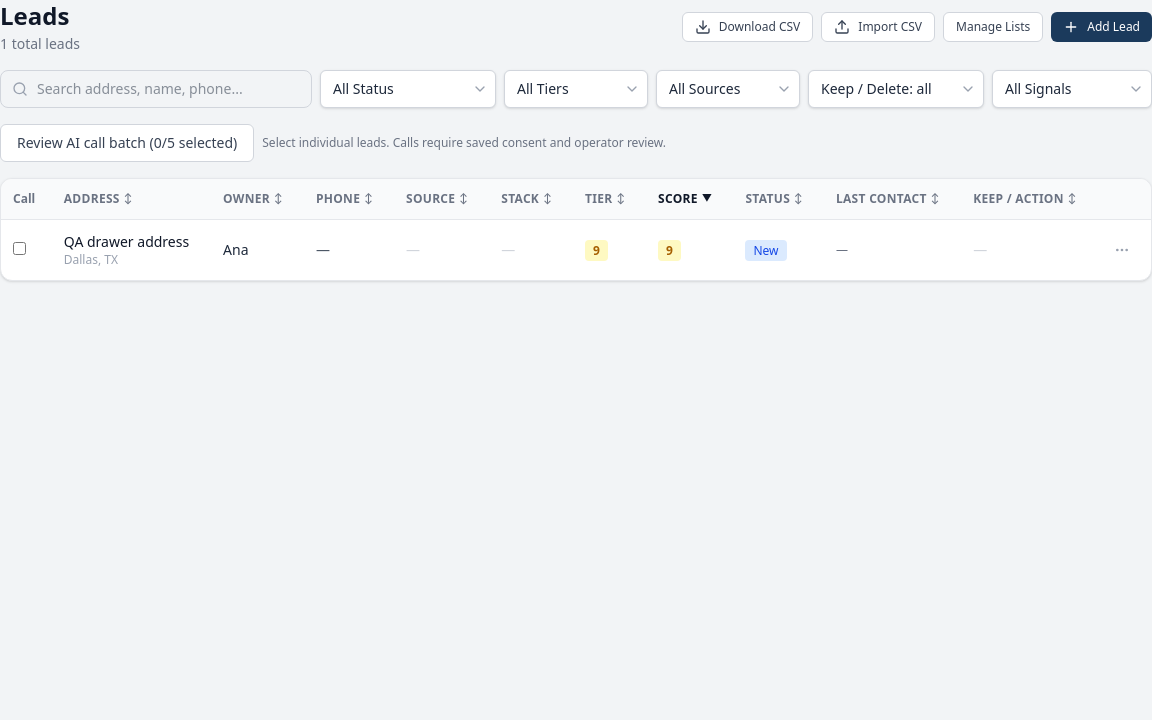
it: saves only changed editable fields and preserves concurrent automation updates
Click the text "QA drawer address".
click(126, 242)  # box [64, 232, 189, 252]
(page scrolled)
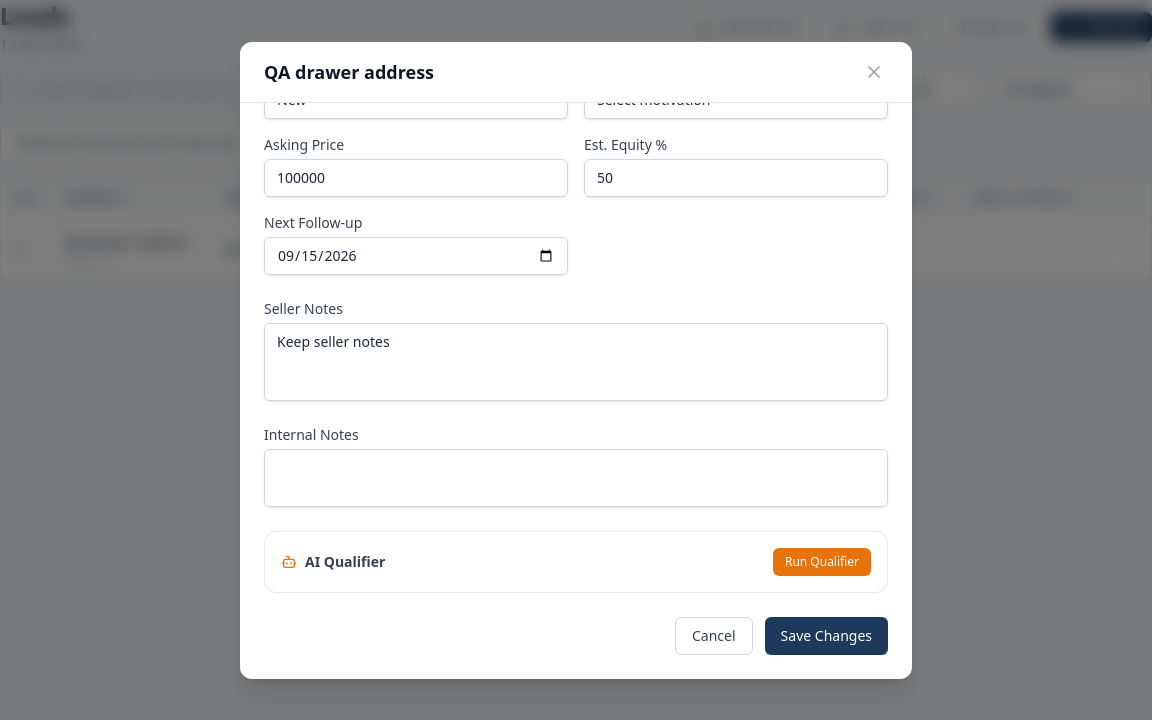
Type "QA edited note" into the text box labelled "Internal Notes".
click(576, 478); type("QA edited note")  # box [264, 448, 888, 506]
(page scrolled)
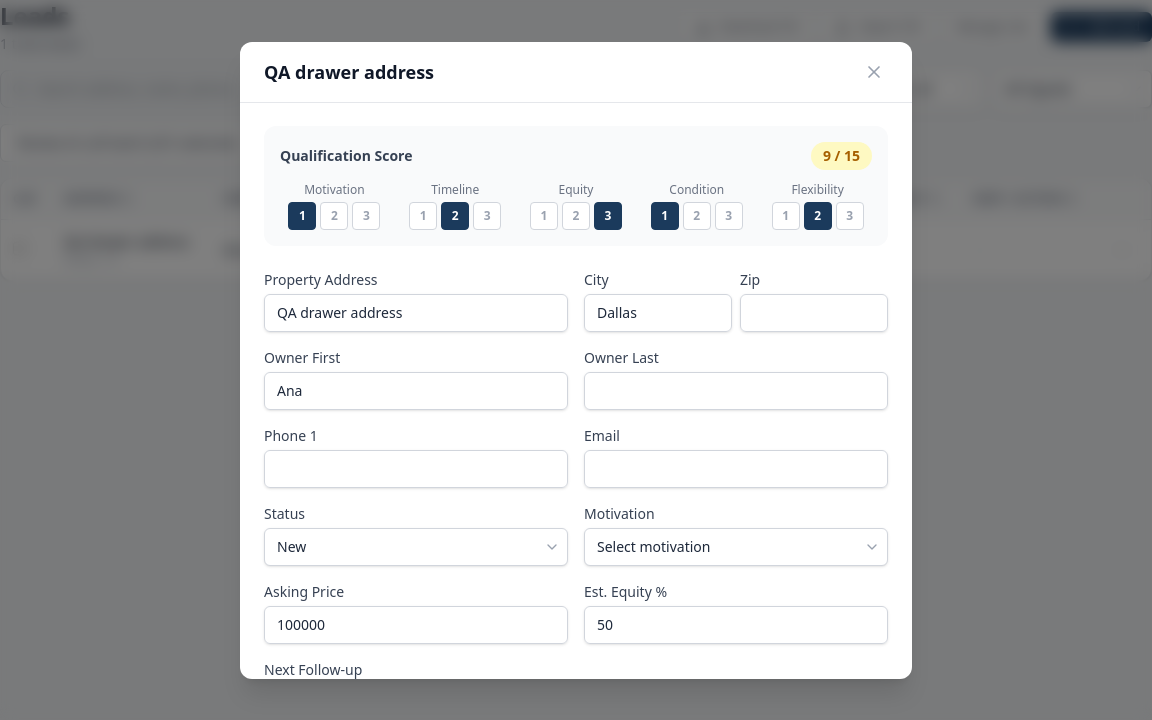
Replace the text in the field labelled "Owner First" with "Temporary change" at coordinates (416, 390), box [264, 372, 568, 410]
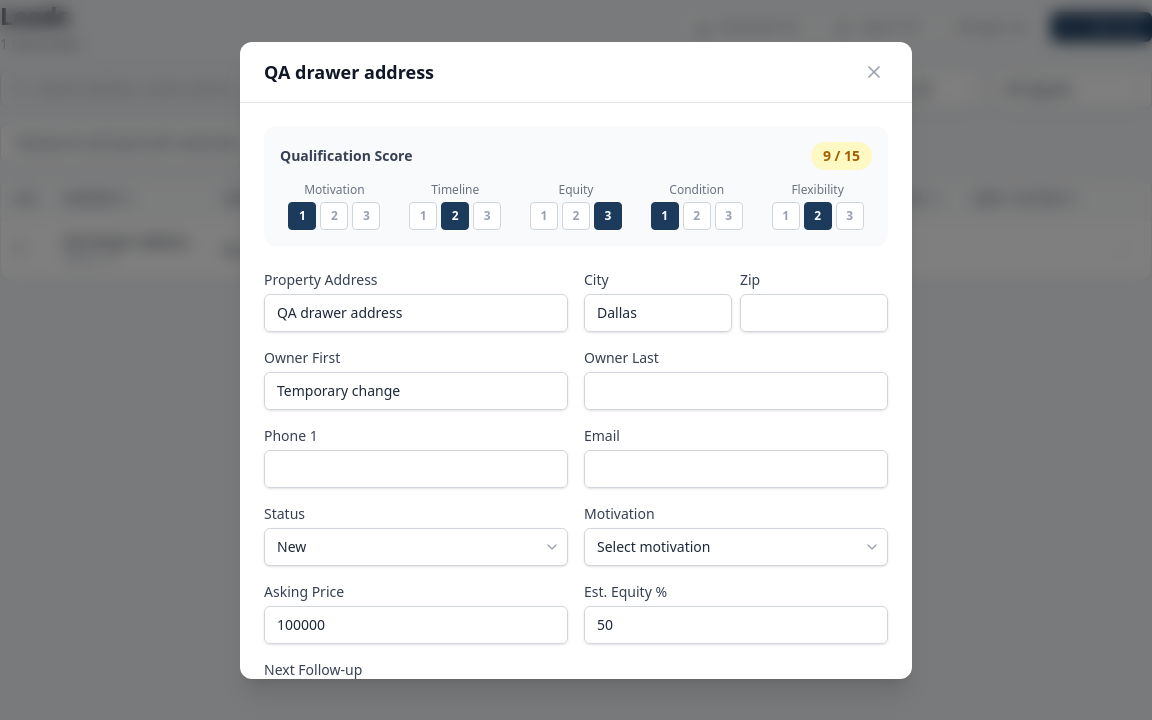
Replace the text in the field labelled "Owner First" with "Ana" at coordinates (416, 390), box [264, 372, 568, 410]
(page scrolled)
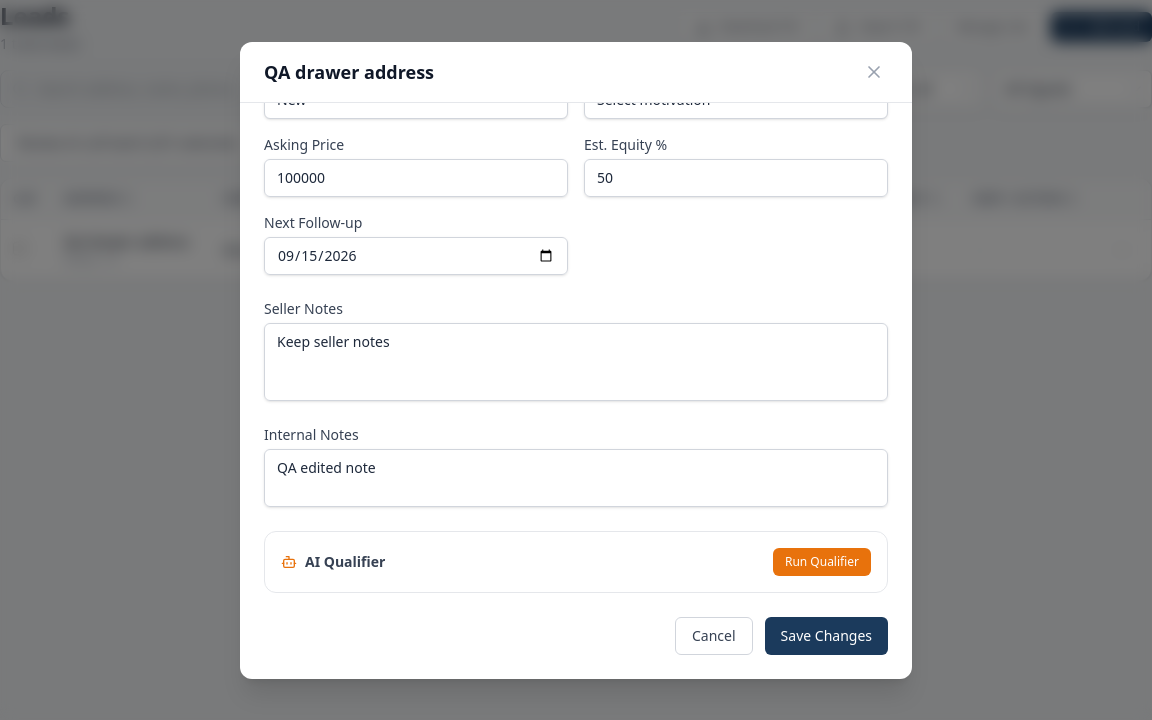
Click the button "Save Changes".
click(826, 636)  # box [765, 616, 888, 654]
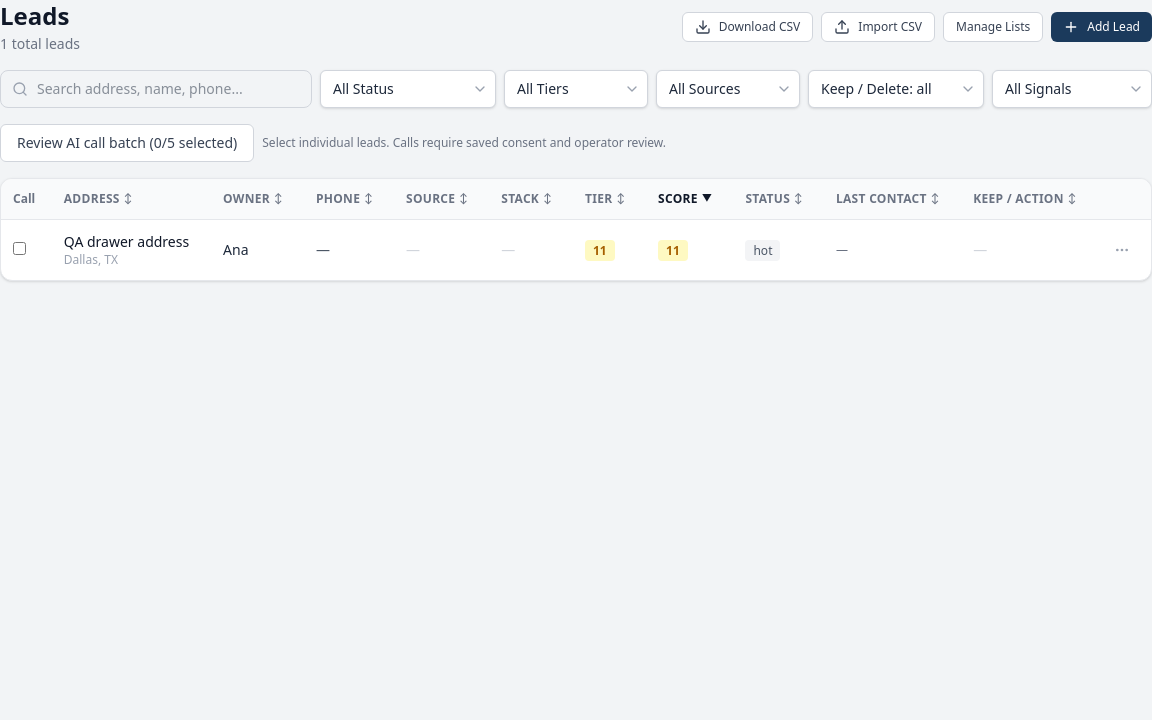
Now the label labelled "Internal Notes" is gone
